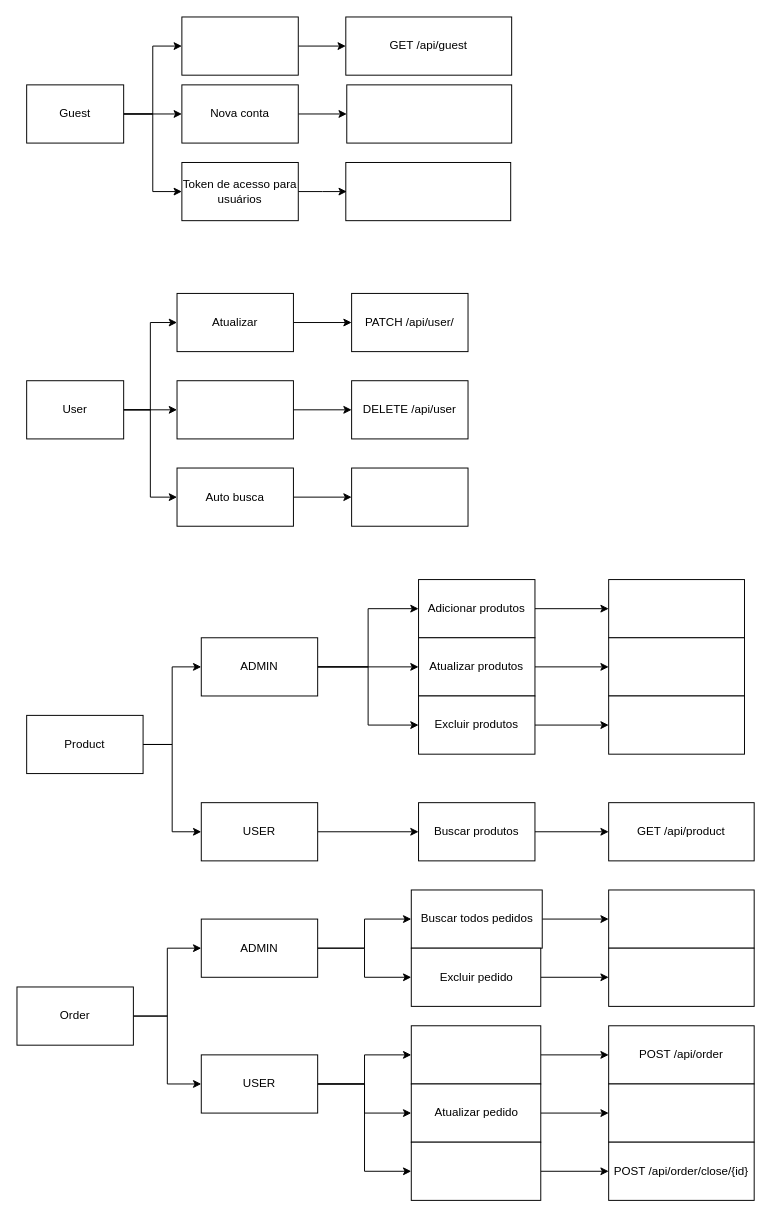
Image size: 771x1217. Some labels were removed from this diagram. Here are the shapes that lost their labels. From the top down, the box of each, then its label:
(181, 16, 298, 75): Token de acesso para convidados
(346, 84, 512, 143): POST /api/user/register
(345, 162, 511, 221): POST /api/user/login
(176, 380, 293, 439): Auto excluir
(351, 467, 468, 526): GET /,api/user/id
(608, 579, 744, 638): POST /api/product
(608, 637, 744, 696): PATCH /api/product
(608, 695, 744, 754): DELETE /api/product
(608, 889, 754, 948): GET /api/order
(608, 947, 754, 1006): DELETE /api/,order/{id}
(410, 1025, 541, 1084): Criar pedido
(608, 1083, 754, 1142): PATCH /api/order
(410, 1141, 541, 1200): Fechar pedido
